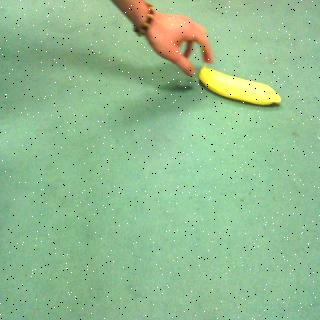banana: (196, 64, 284, 121)
